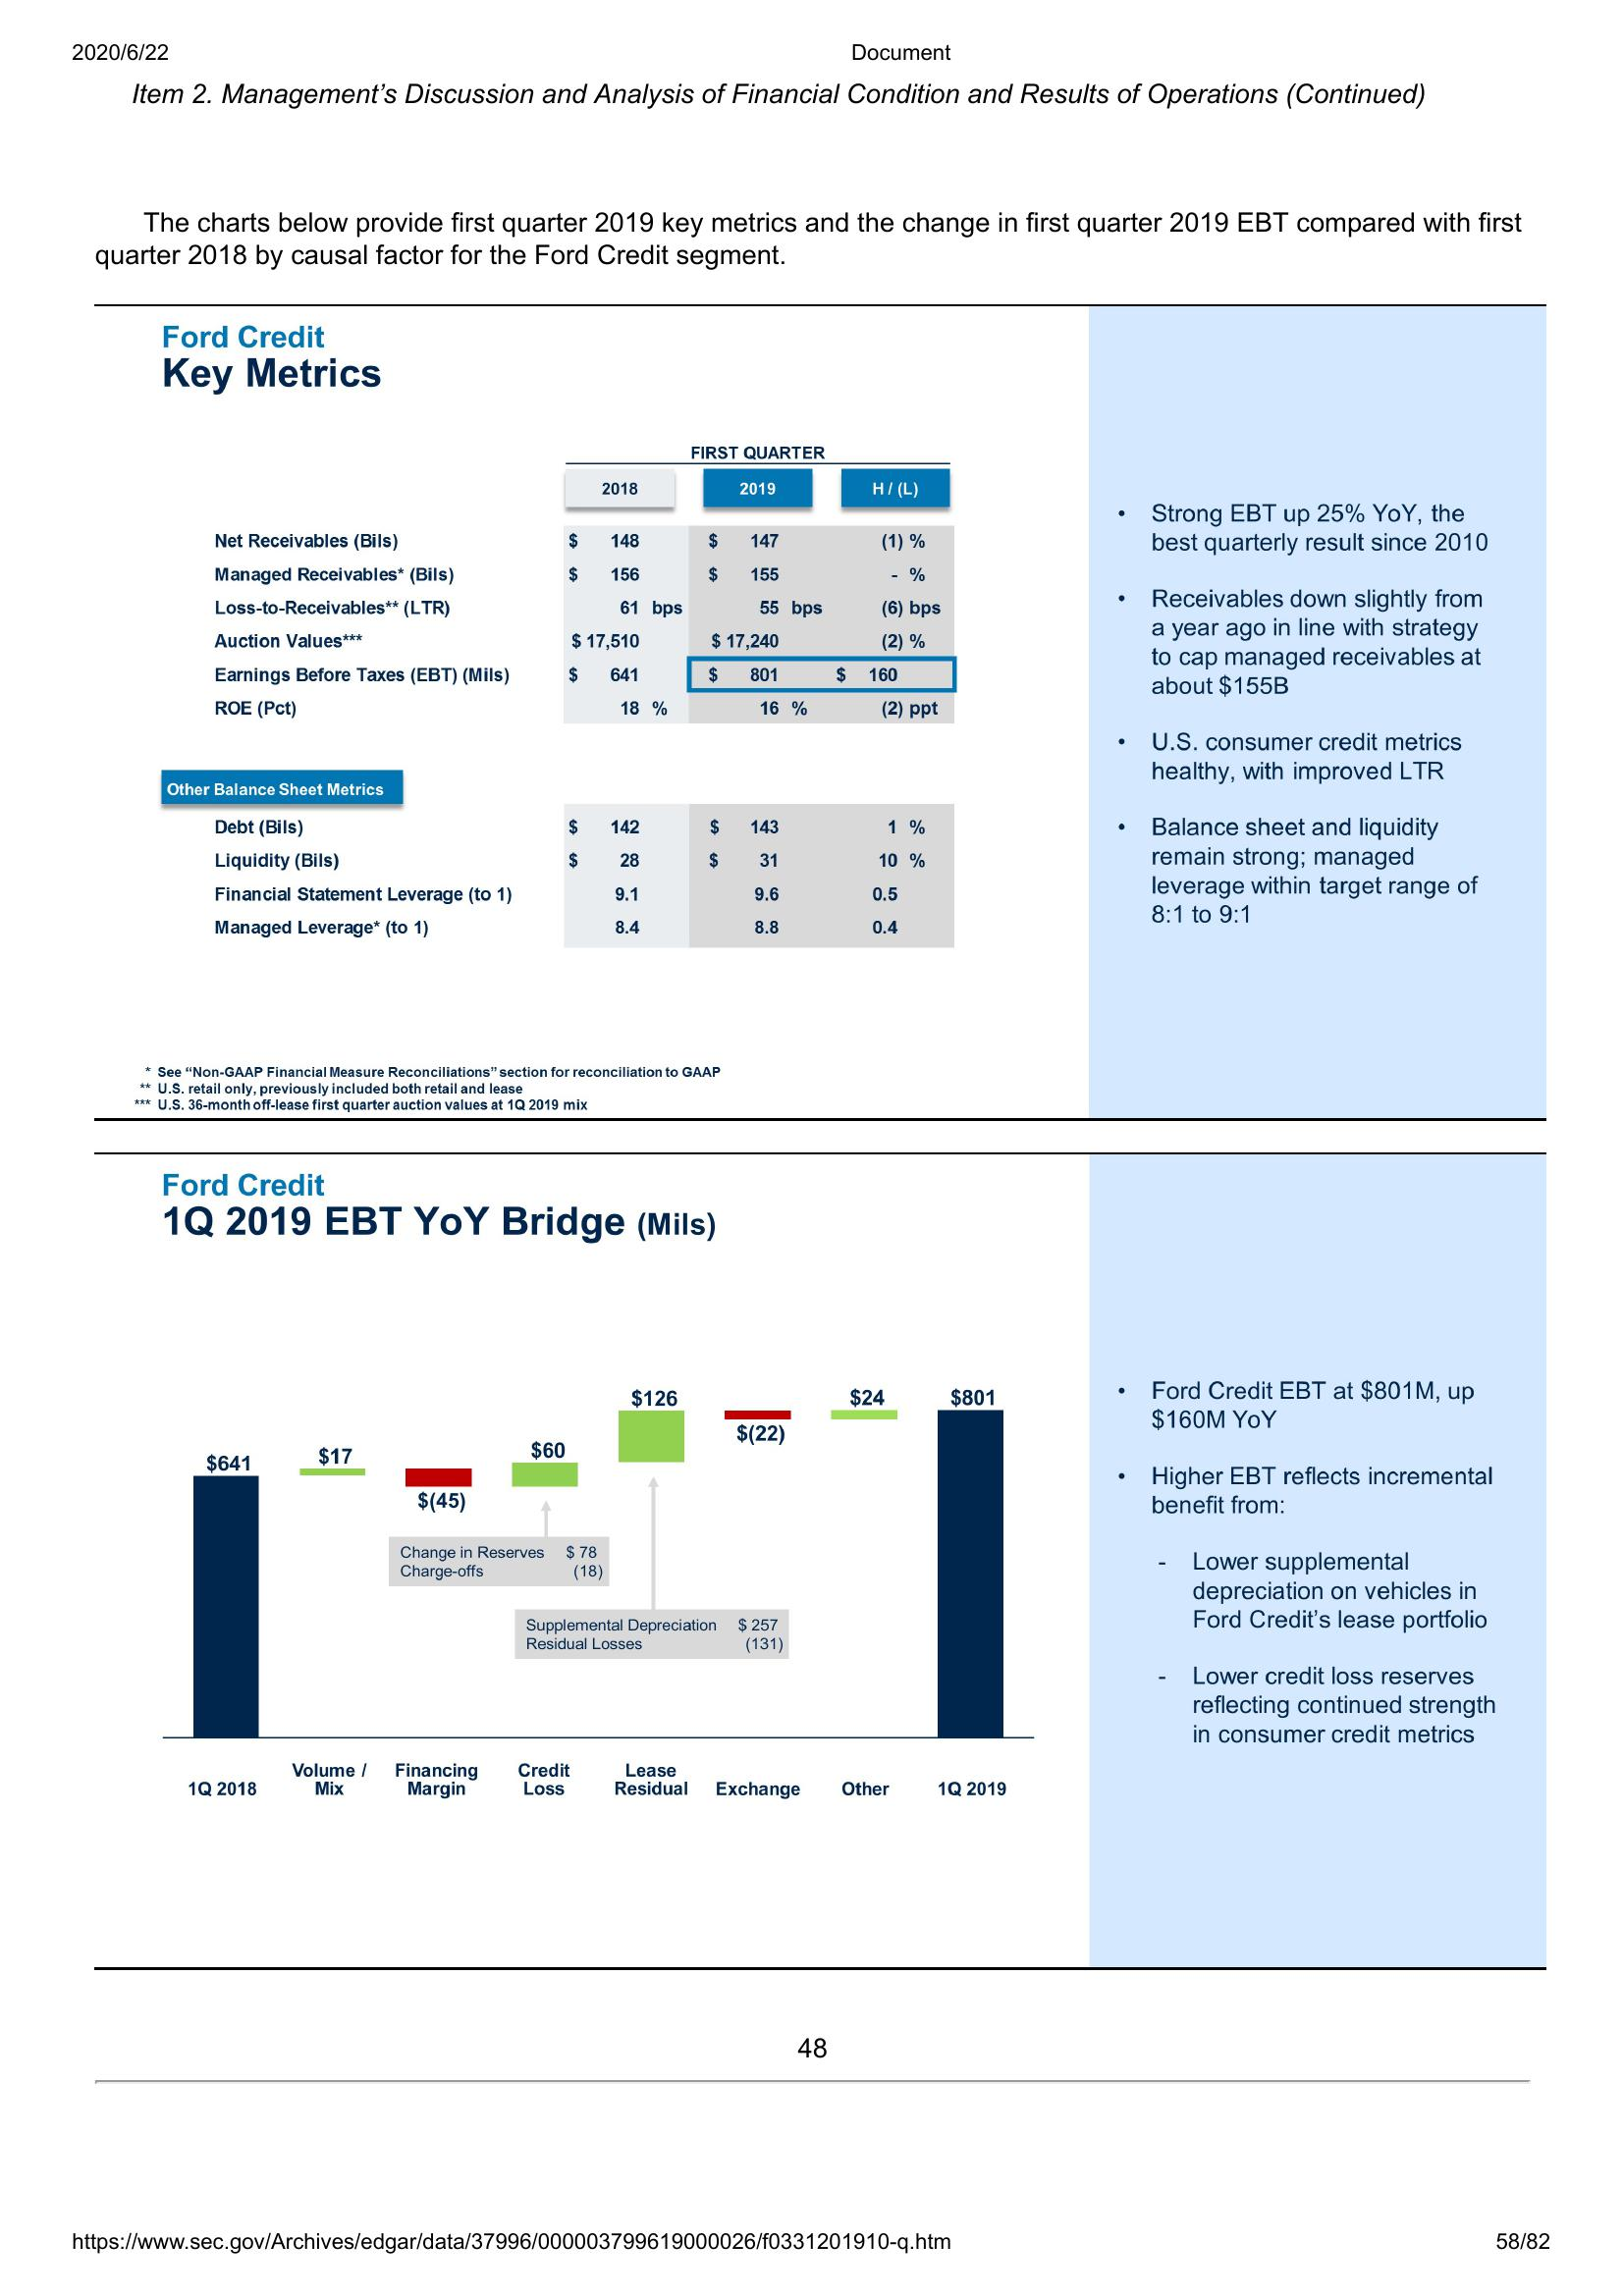table: (156, 427, 961, 951)
